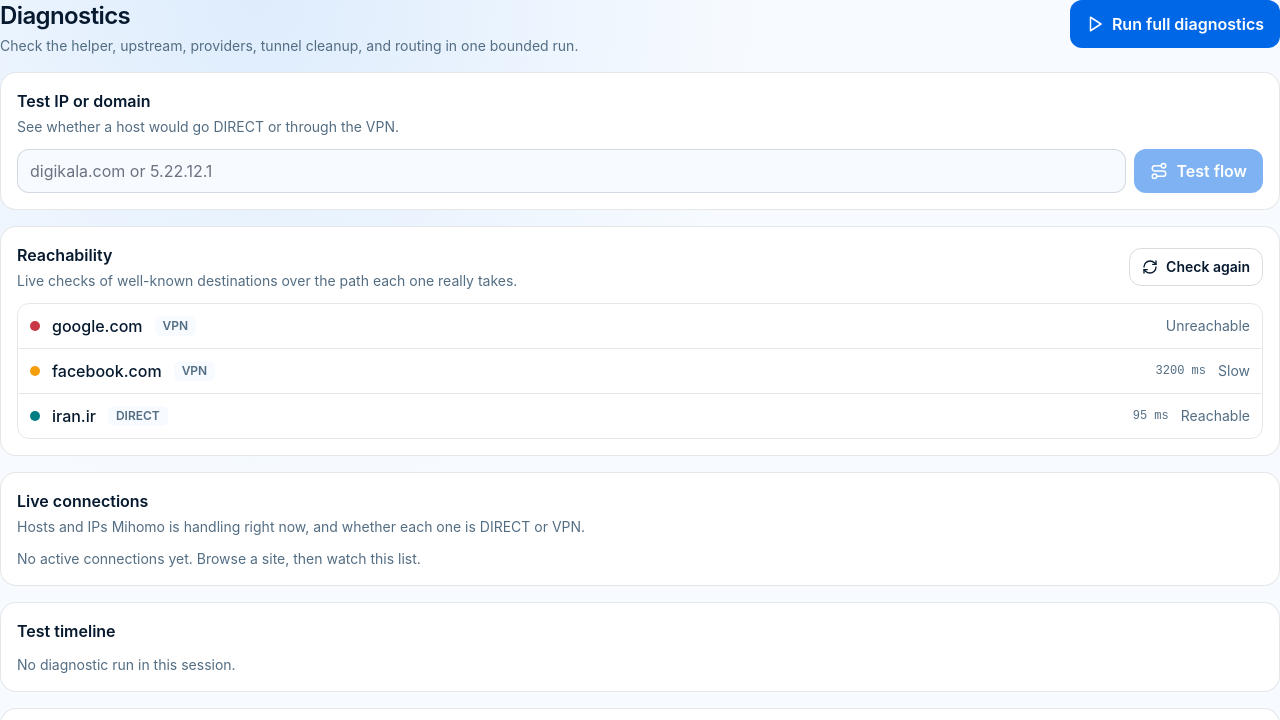
Diagnostics › never offers to move a private or local address onto the VPN
The image size is (1280, 720).
Type "192.168.1.1" into the field named "Test IP or domain".
click(572, 171); type("192.168.1.1")  # box [17, 149, 1126, 193]
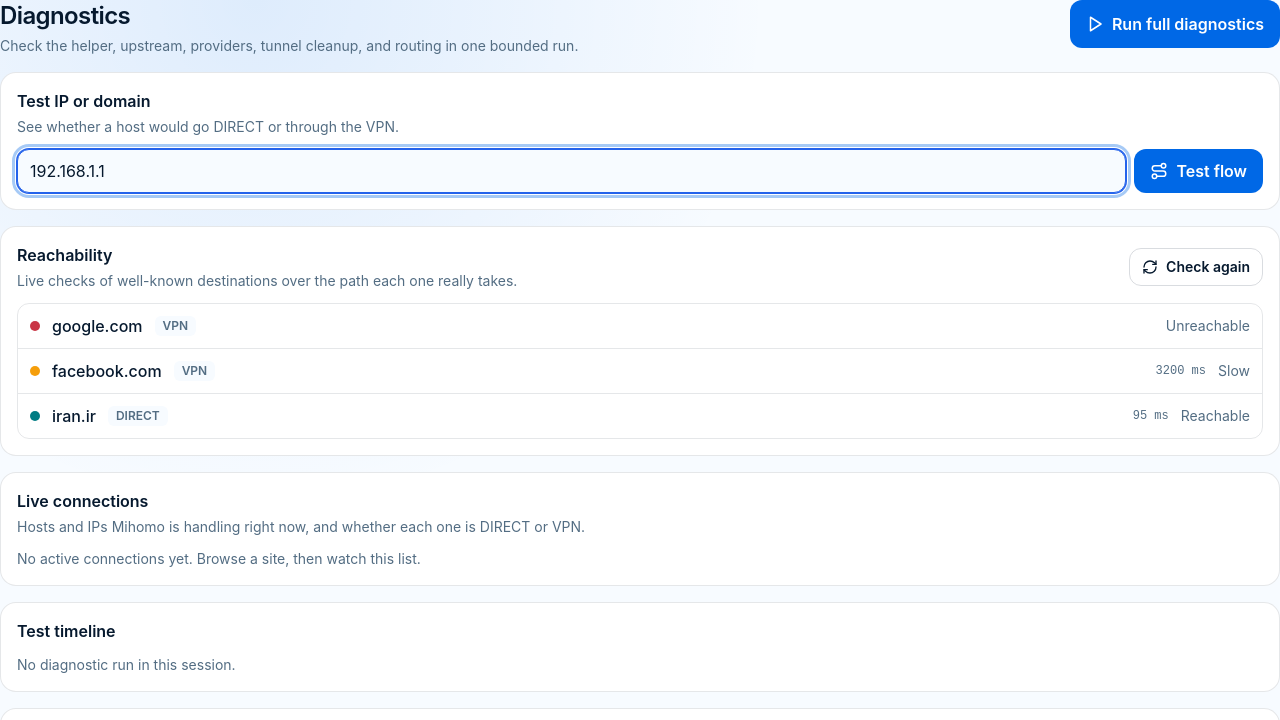
Click the button "Test flow".
click(1199, 171)  # box [1134, 149, 1263, 193]
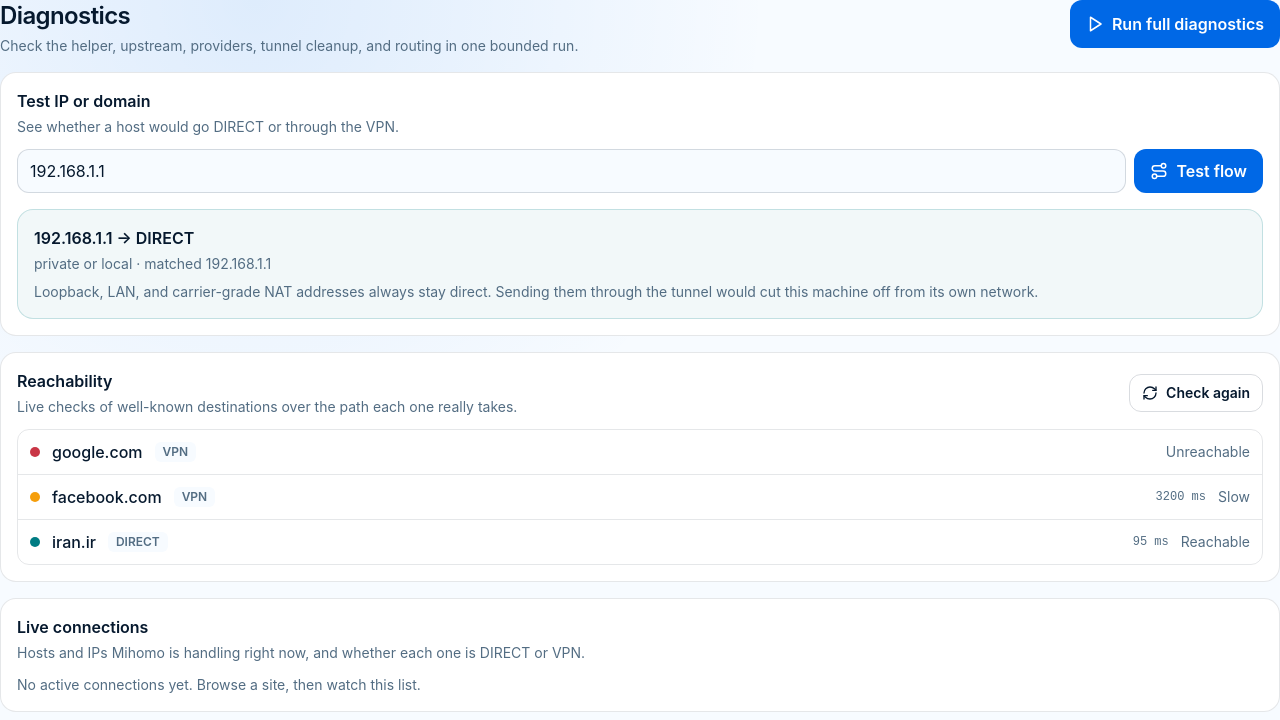
Check: the text "192.168.1.1 → DIRECT" is shown, box [34, 226, 194, 250]
Check: the text "always stay direct" is shown, box [34, 283, 1038, 300]
